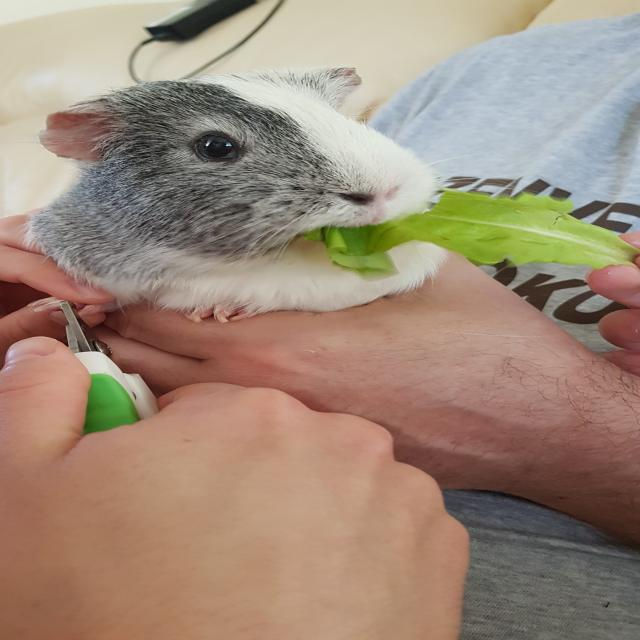guinea pig: (19, 64, 467, 325)
